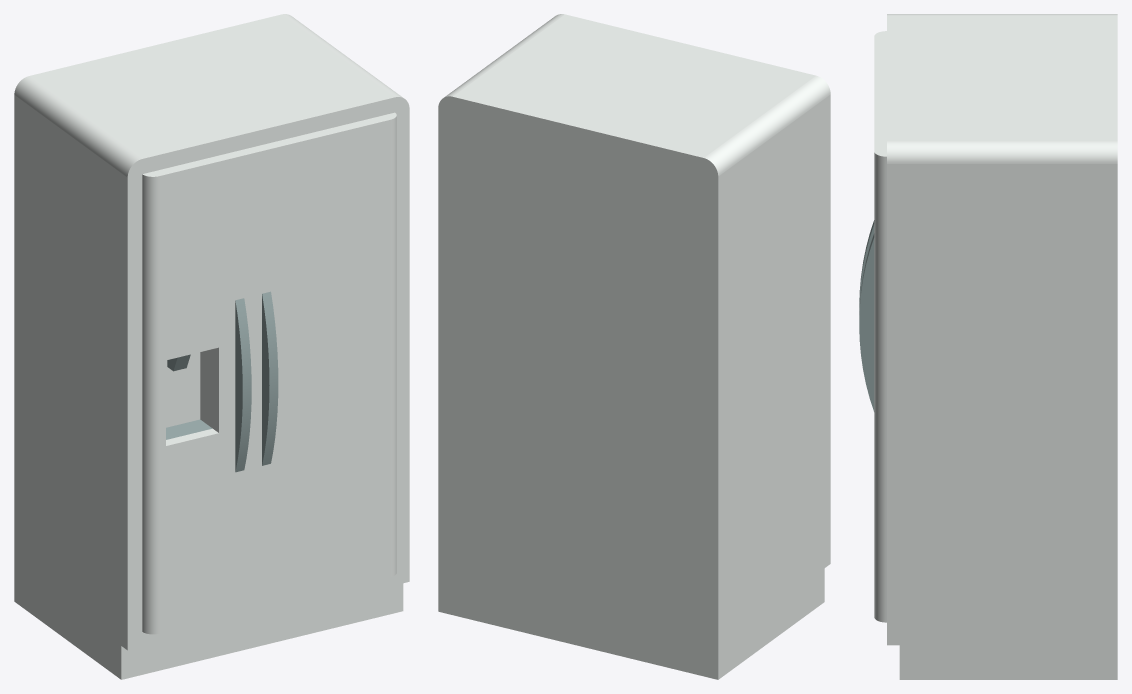
File: kitchenFridgeLarge.glb
The picture shows the model from 3 angles, left to right: view 1: azimuth 30°, elevation 25°; view 2: azimuth 150°, elevation 25°; view 3: azimuth 270°, elevation 25°; orthographic projection. The views are drawn at different scales.
Parts seen in each view (by area): view 1: kitchenFridgeLarge(Clone), doorRight, doorLeft; view 2: kitchenFridgeLarge(Clone); view 3: kitchenFridgeLarge(Clone), doorRight, doorLeft.
Part boxes in pixels (left/top/right/bottom): kitchenFridgeLarge(Clone): left=14, top=14, right=409, bottom=679; doorRight: left=247, top=112, right=396, bottom=610; doorLeft: left=142, top=148, right=253, bottom=634; kitchenFridgeLarge(Clone): left=438, top=14, right=830, bottom=679; kitchenFridgeLarge(Clone): left=887, top=14, right=1117, bottom=679; doorRight: left=859, top=83, right=886, bottom=622; doorLeft: left=859, top=31, right=886, bottom=310.
Size of the model in its own units: 1.06 by 1.87 by 0.8233.
Materials: 2 (2 with a texture image).
